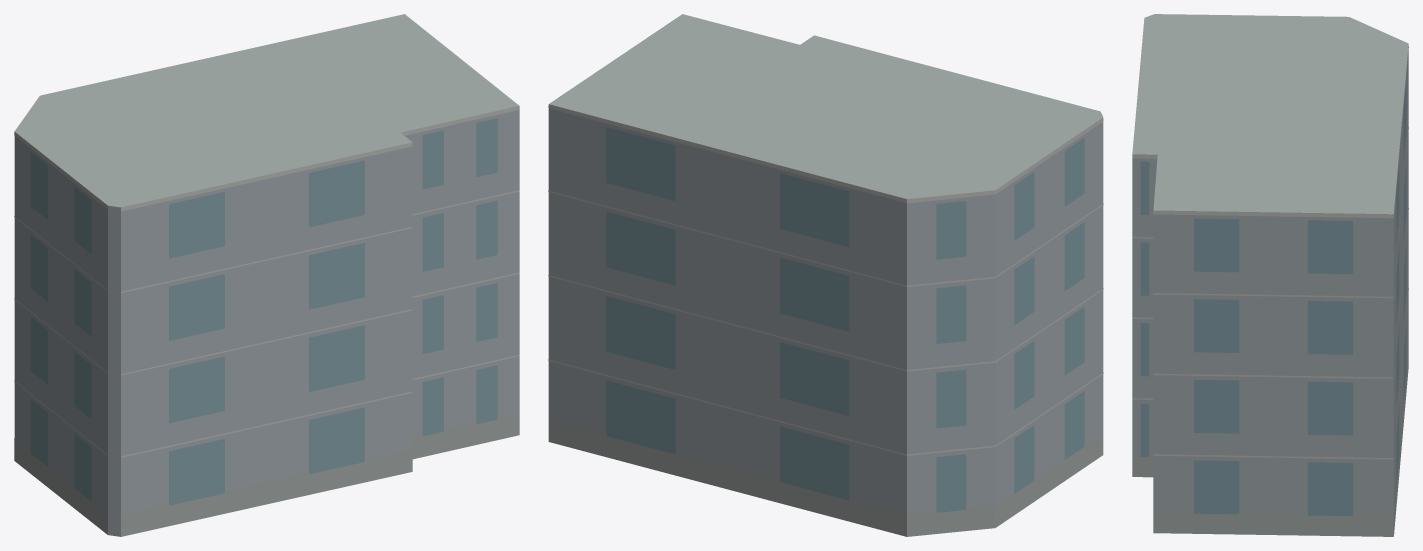
File: survey-upis-32773840.glb
3 renders of one model, left to right at view 1: azimuth 30°, elevation 25°; view 2: azimuth 150°, elevation 25°; view 3: azimuth 270°, elevation 25°, orthographic. The views are drawn at different scales.
Parts seen in each view (by area): view 1: survey-upis-32773840.tmp; view 2: survey-upis-32773840.tmp; view 3: survey-upis-32773840.tmp.
Part boxes in pixels (<box>): survey-upis-32773840.tmp: <box>14,14,519,536</box>; survey-upis-32773840.tmp: <box>548,14,1103,536</box>; survey-upis-32773840.tmp: <box>1132,14,1408,536</box>.
Size of the model in its own units: 25.98 by 19.5 by 15.17.
